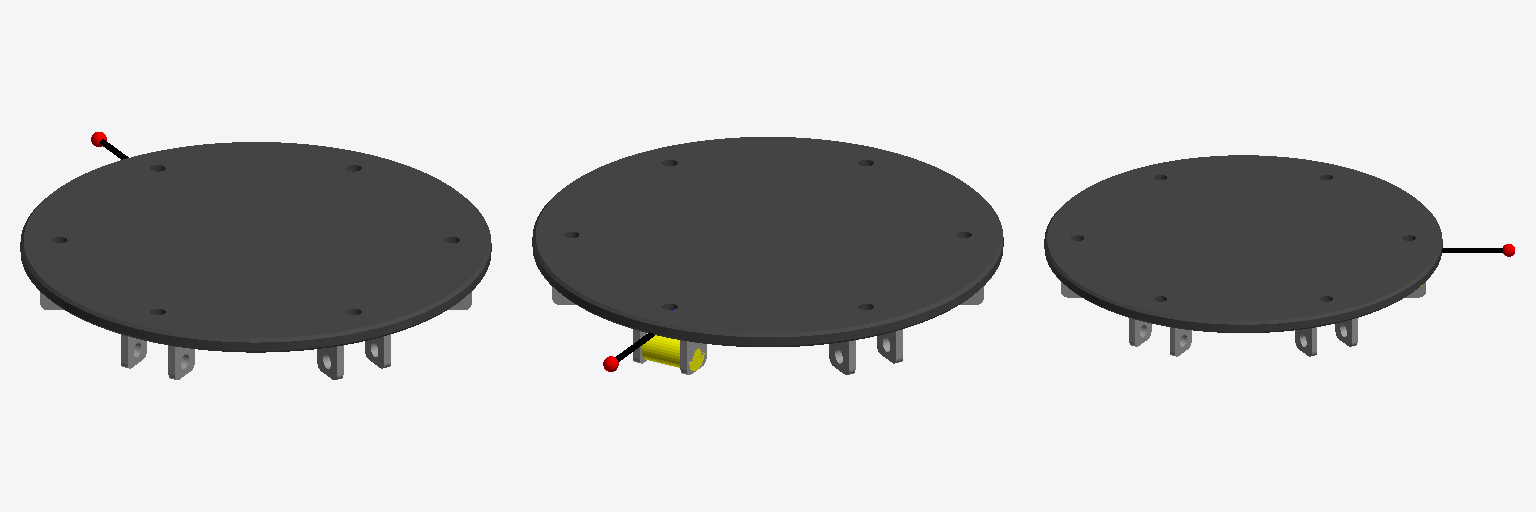
robot.urdf — threeDOF:
<?xml version="1.0"?>

<robot name="threeDOF">
  
  <!-- *************************************************** -->
  <!-- ******************** Kinematics ******************* -->
  <!-- *************************************************** -->
  <!-- Note the 'origin' tag in the joints defines the
       shift and reorientation before the continuous joint
       rotates around the 'axis'. -->

  <link name="world"/>

  <joint name="theta1" type="continuous">
    <parent link="world"/>
    <child  link="link1"/>
    <origin xyz="0 0 0" rpy="0 0 0"/>
    <axis   xyz="0 0 1"/>
  </joint>

  <link name="link1"/>

  <joint name="theta2" type="continuous">
    <parent link="link1"/>
    <child  link="link2"/>
    <origin xyz="0 0 0" rpy="0 0 0"/>
    <axis   xyz="1 0 0"/>
  </joint>

  <link name="link2"/>

  <joint name="theta3" type="continuous">
    <parent link="link2"/>
    <child  link="link3"/>
    <origin xyz="0 1 0" rpy="0 0 0"/>
    <axis   xyz="1 0 0"/>
  </joint>

  <link name="link3"/>

  <joint name="shifttotip" type="fixed">
    <parent link="link3"/>
    <child  link="tip"/>
    <origin xyz="0 1 0" rpy="0 0 0"/>
  </joint>

  <link name="tip"/>


  <!-- *************************************************** -->
  <!-- ********************* Graphics ******************** -->
  <!-- *************************************************** -->
  <!-- The following is purely to make this look roboticy. -->
  <!-- The 'origin' tag in the link/visual defines the
       center of the object (box, cylinder, sphere, mesh)
       but does not affect the joint chain kinematics. -->

  <!-- *************** Materials / Colors **************** -->

  <material name="white">    <color rgba="1.00 1.00 1.00 1"/>  </material>
  <material name="gray">     <color rgba="0.60 0.60 0.60 1"/>  </material>
  <material name="table">    <color rgba="0.85 0.77 0.77 1"/>  </material>
  <material name="black">    <color rgba="0.00 0.00 0.00 1"/>  </material>

  <material name="red">      <color rgba="1.00 0.00 0.00 1"/>  </material>
  <material name="green">    <color rgba="0.00 1.00 0.00 1"/>  </material>
  <material name="blue">     <color rgba="0.00 0.00 1.00 1"/>  </material>

  <material name="cyan">     <color rgba="0.00 1.00 1.00 1"/>  </material>
  <material name="magenta">  <color rgba="1.00 0.00 1.00 1"/>  </material>
  <material name="yellow">   <color rgba="1.00 1.00 0.00 1"/>  </material>

  <material name="orange">   <color rgba="1.00 0.65 0.00 1"/>  </material>


  <!-- *** Table - attached to world *** -->

  <joint name="attach-table" type="fixed">
    <parent link="world"/>
    <child  link="table"/>
  </joint>

  <link name="table">
    <visual>
      <origin rpy="3.14159 0 0" xyz="0 0 0"/>
      <geometry>
        <mesh filename="package://finalprojectcode/meshes/Platform_Top.dae"/>
      </geometry>
    </visual>
  </link>

  <!-- *** Yaw Motor - attached to world *** -->

  <joint name="attach-yawmotor" type="fixed">
    <parent link="world"/>
    <child  link="yawmotor"/>
  </joint>

  <link name="yawmotor">
    <visual>
      <origin xyz="0 0 -0.35" rpy="0 0 0"/>
      <geometry>
	<cylinder length="0.1" radius="0.2"/>
      </geometry>
      <material name="gray"/>
    </visual>
  </link>

  <!-- *** Link 1 Bar - attached to link1 (yaw joint output) *** -->

  <joint name="attach-link1bar" type="fixed">
    <parent link="link1"/>
    <child  link="link1bar"/>
  </joint>

  <link name="link1bar">
    <visual>
      <origin xyz="0 0 -0.2" rpy="0 0 0"/>
      <geometry>
	<cylinder length="0.2" radius="0.02"/>
      </geometry>
      <material name="black"/>
    </visual>
  </link>

  <!-- *** Link 1 Sail - attached to link1 (yaw joint output) *** -->

  <joint name="attach-link1sail" type="fixed">
    <parent link="link1"/>
    <child  link="link1sail"/>
  </joint>

  <link name="link1sail">
    <visual>
      <origin xyz="0 0.05 -0.25" rpy="0 0 0"/>
      <geometry>
      	<box size="0.04 0.1 0.1"/>
      </geometry>
      <material name="blue"/>
    </visual>
  </link>

  <!-- *** Pitch 1 Motor - attached to link1 (yaw joint output) *** -->

  <joint name="attach-pitch1motor" type="fixed">
    <parent link="link1"/>
    <child  link="pitch1motor"/>
  </joint>

  <link name="pitch1motor">
    <visual>
      <origin xyz="0 1.25 -0.2" rpy="0 1.5708 0"/>
      <geometry>
	<cylinder length="0.4" radius="0.1"/>
      </geometry>
      <material name="yellow"/>
    </visual>
  </link>

  <!-- *** Link 2 Bar - attached to link2 (pitch1 joint output) *** -->

  <joint name="attach-link2bar" type="fixed">
    <parent link="link2"/>
    <child  link="link2bar"/>
  </joint>

  <link name="link2bar">
    <visual>
      <origin xyz="0 0.5 0" rpy="-1.5708 0 0"/>
      <geometry>
	<cylinder length="1.0" radius="0.02"/>
      </geometry>
      <material name="black"/>
    </visual>
  </link>

  <!-- *** Link 2 Sail - attached to link2 (pitch1 joint output) *** -->

  <joint name="attach-link2sail" type="fixed">
    <parent link="link2"/>
    <child  link="link2sail"/>
  </joint>

  <link name="link2sail">
    <visual>
      <origin xyz="0 0.15 0.04" rpy="0 0 0"/>
      <geometry>
      	<box size="0.04 0.3 0.08"/>
      </geometry>
      <material name="blue"/>
    </visual>
  </link>

  <!-- *** Pitch 2 Motor - attached to link1 (yaw joint output) *** -->

  <joint name="attach-pitch2motor" type="fixed">
    <parent link="link2"/>
    <child  link="pitch2motor"/>
  </joint>

  <link name="pitch2motor">
    <visual>
      <origin xyz="0 1 0" rpy="0 1.5708 0"/>
      <geometry>
	<cylinder length="0.3" radius="0.08"/>
      </geometry>
      <material name="yellow"/>
    </visual>
  </link>

  <!-- *** Link 3 Bar - attached to link3 (pitch2 joint output) *** -->

  <joint name="attach-link3bar" type="fixed">
    <parent link="link3"/>
    <child  link="link3bar"/>
  </joint>

  <link name="link3bar">
    <visual>
      <origin xyz="0 0.5 0" rpy="-1.5708 0 0"/>
      <geometry>
	<cylinder length="1.0" radius="0.02"/>
      </geometry>
      <material name="black"/>
    </visual>
  </link>

  <!-- *** Link 3 Sail - attached to link3 (pitch2 joint output) *** -->

  <joint name="attach-link3sail" type="fixed">
    <parent link="link3"/>
    <child  link="link3sail"/>
  </joint>

  <link name="link3sail">
    <visual>
      <origin xyz="0 0.125 0.03" rpy="0 0 0"/>
      <geometry>
      	<box size="0.03 0.25 0.06"/>
      </geometry>
      <material name="blue"/>
    </visual>
  </link>

  <!-- *** Tip Ball - attached to tip *** -->

  <joint name="attach-tipball" type="fixed">
    <parent link="tip"/>
    <child  link="tipball"/>
  </joint>

  <link name="tipball">
    <visual>
      <origin xyz="0 0 0" rpy="0 0 0"/>
      <geometry>
      	<sphere radius="0.05"/>
      </geometry>
      <material name="red"/>
    </visual>
  </link>

</robot>

--- Render facts (derived) ---
3 views of the same robot in one strip: view 1: azimuth 30°, elevation 25°; view 2: azimuth 150°, elevation 25°; view 3: azimuth 270°, elevation 25° (orthographic).
Robot: threeDOF — 16 links, 15 joints (3 continuous, 12 fixed); root link world; default pose: every joint at zero.
Visible links, largest first — view 1: table; view 2: table, pitch1motor; view 3: table.
Link boxes in pixels (<box>): table: <box>20,142,491,379</box>; table: <box>532,137,1003,374</box>; pitch1motor: <box>642,333,704,370</box>; table: <box>1044,155,1442,356</box>.
Bounding box of the posed robot: 3 × 3.55 × 0.5 m (x, y, z).
1 mesh visuals loaded from 1 distinct referenced files (1 Collada DAE).